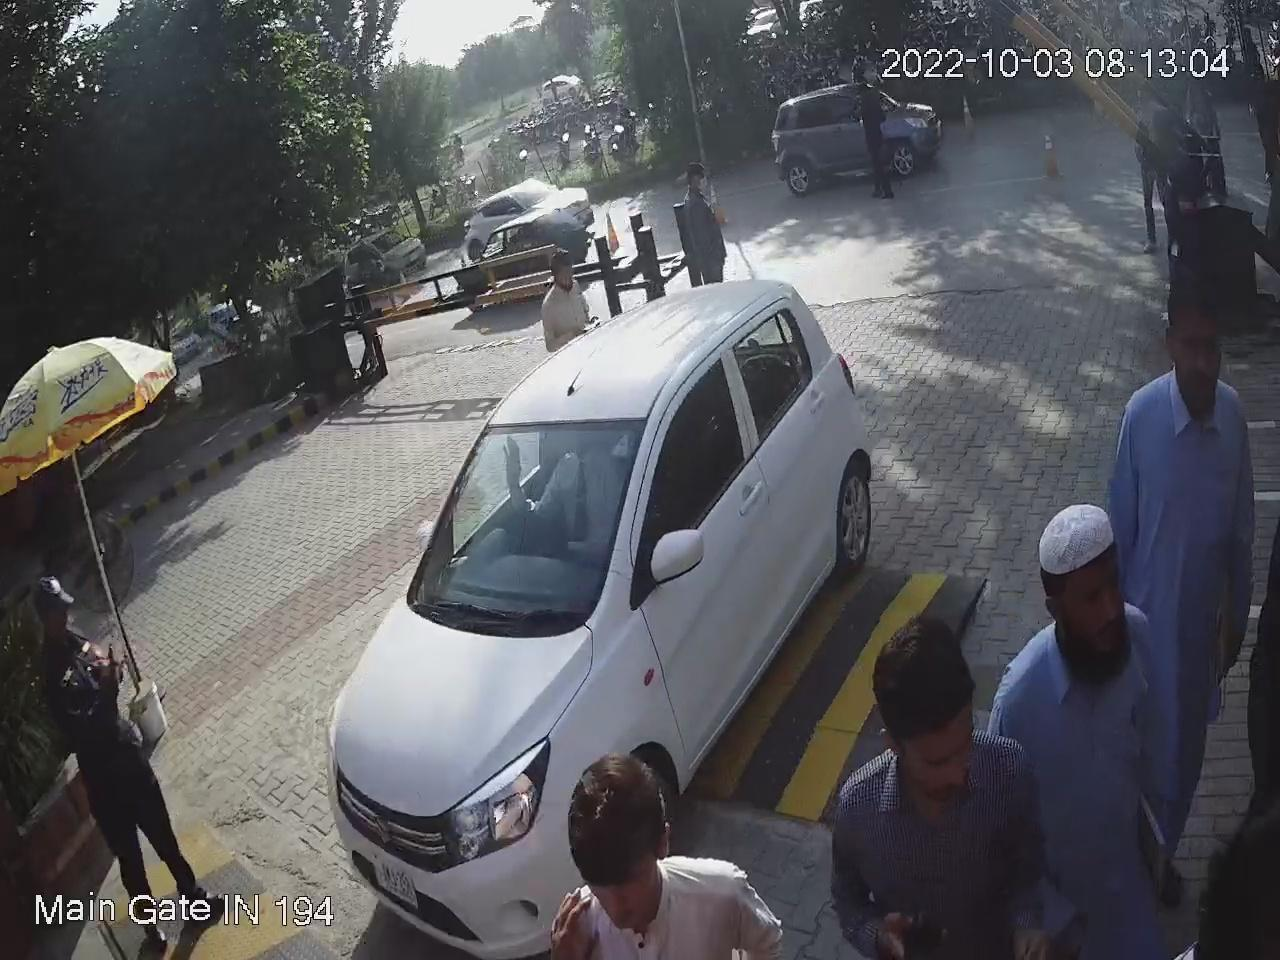windshield: (405, 410, 656, 647)
